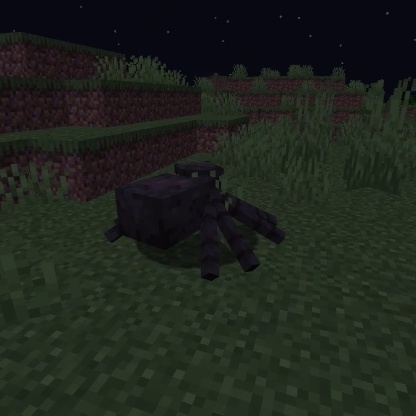spider: (101, 157, 288, 284)
